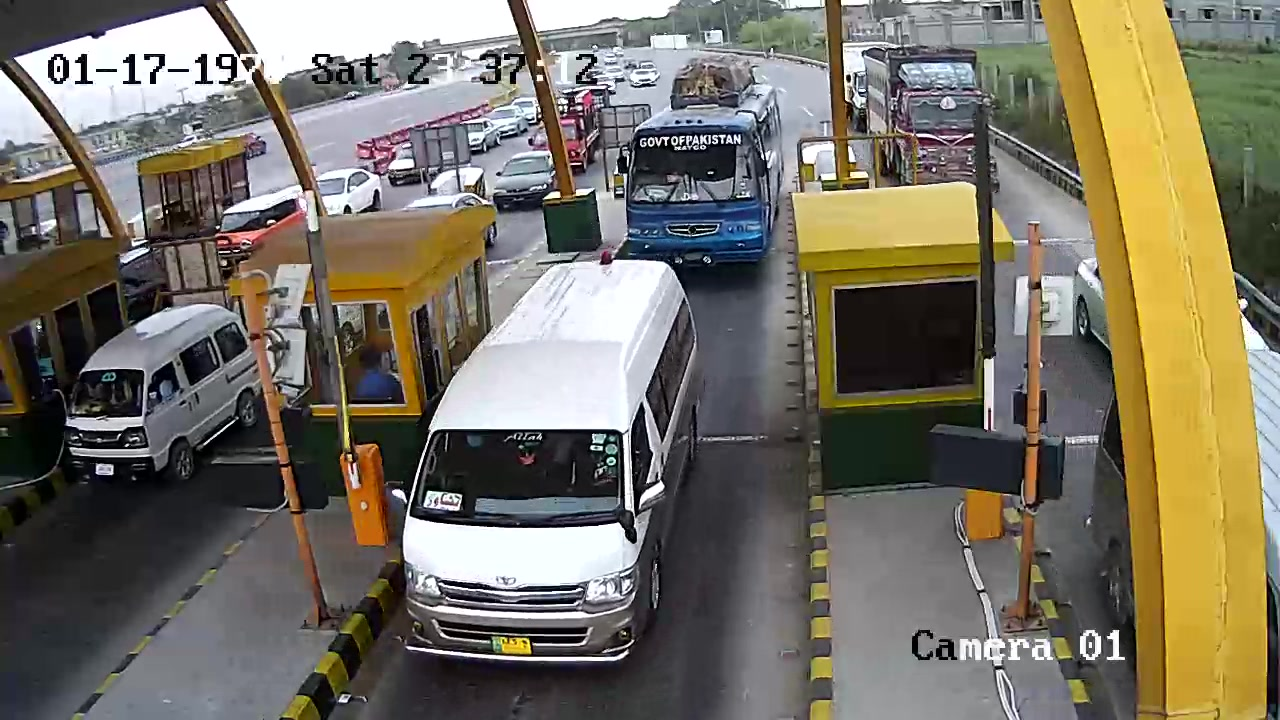F2: (384, 251, 717, 661)
